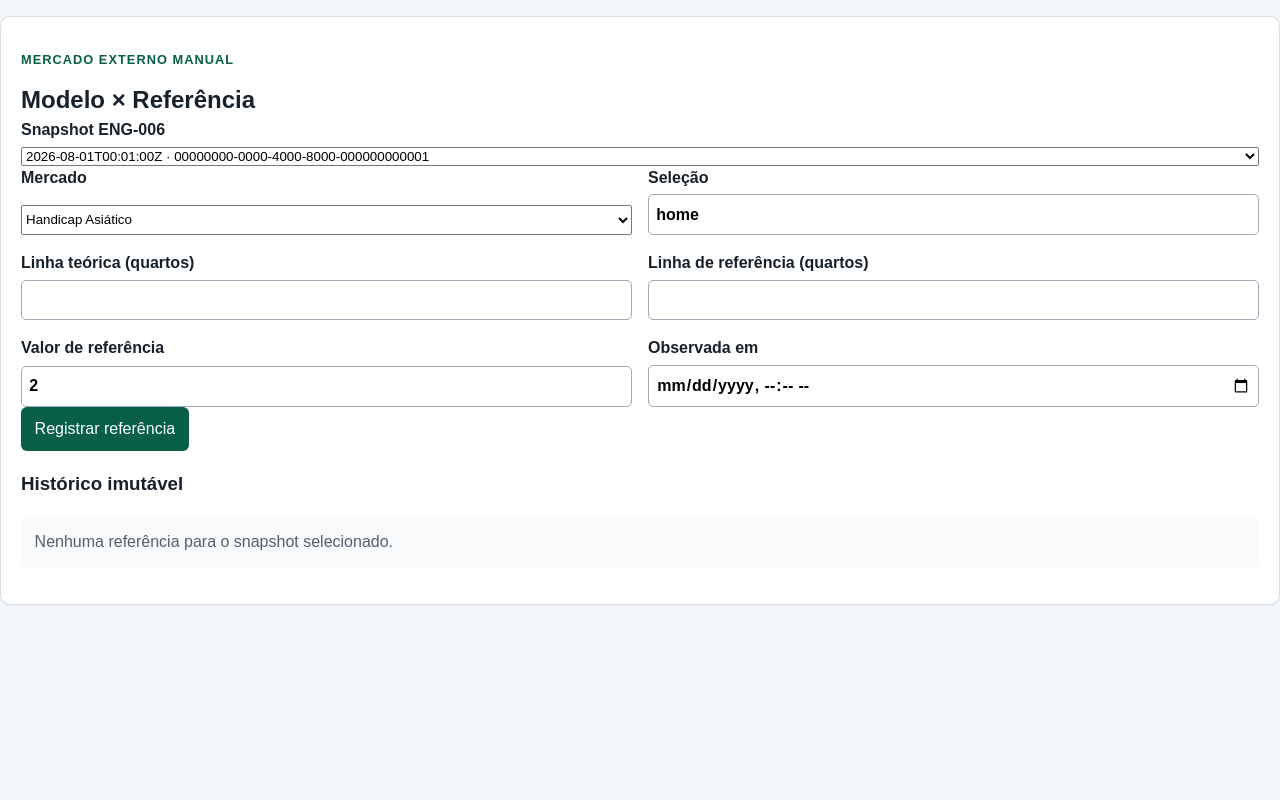
it: MarketReferencePanel › registers and displays a comparison supplied by the API
Check: the button "Registrar referência" is shown, box [21,407,189,451]
Type "-1" into the field labelled "Linha teórica (quartos)" at point(326, 300), box [21,280,632,320]
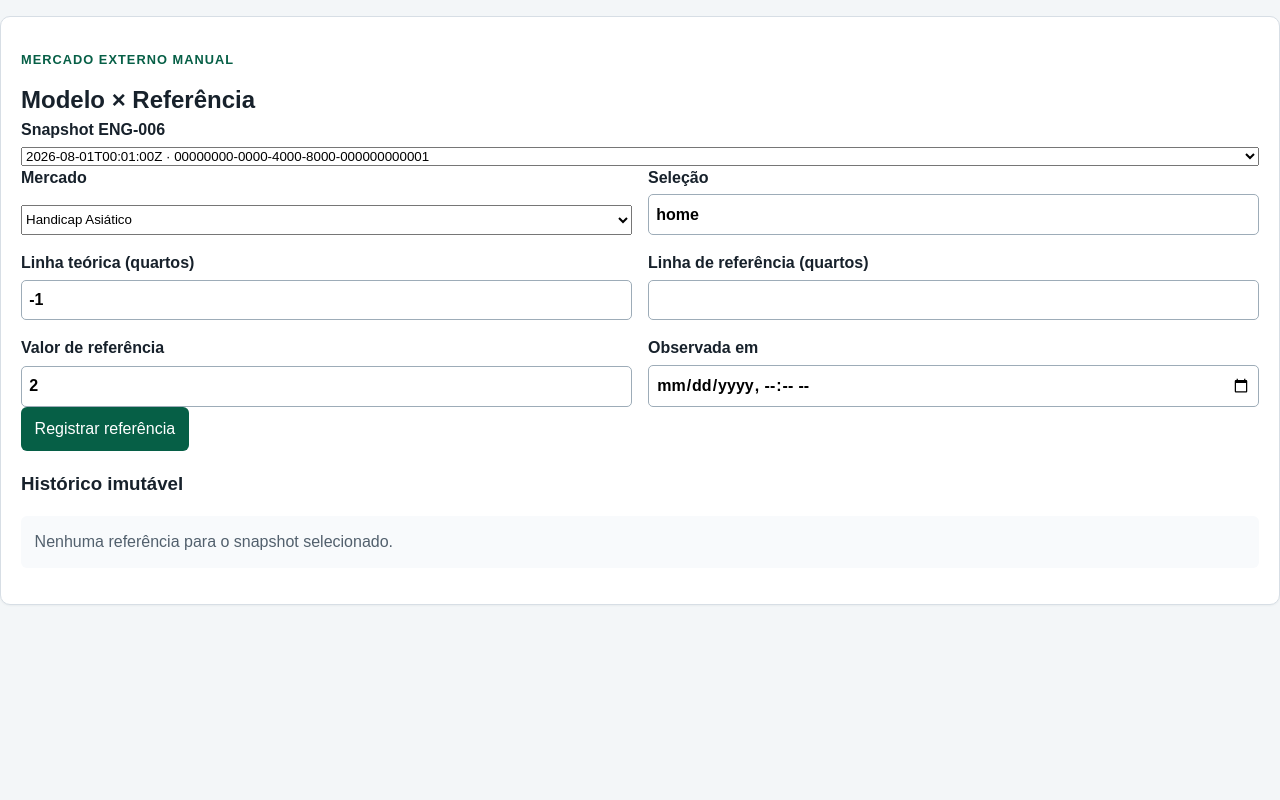
Type "0" into the field labelled "Linha de referência (quartos)" at point(954, 300), box [648,280,1259,320]
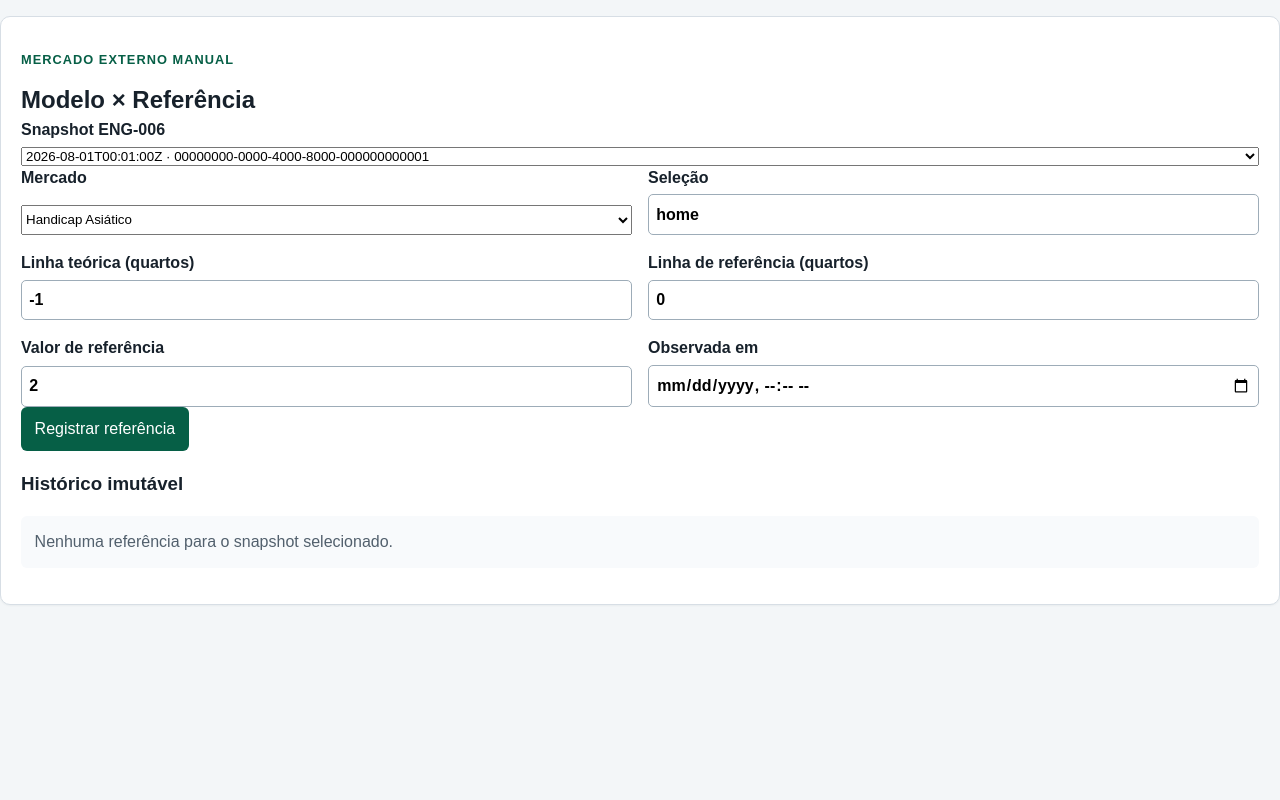
Type "2026-08-01T12:00" into the field labelled "Observada em" at point(954, 386), box [648,365,1259,407]
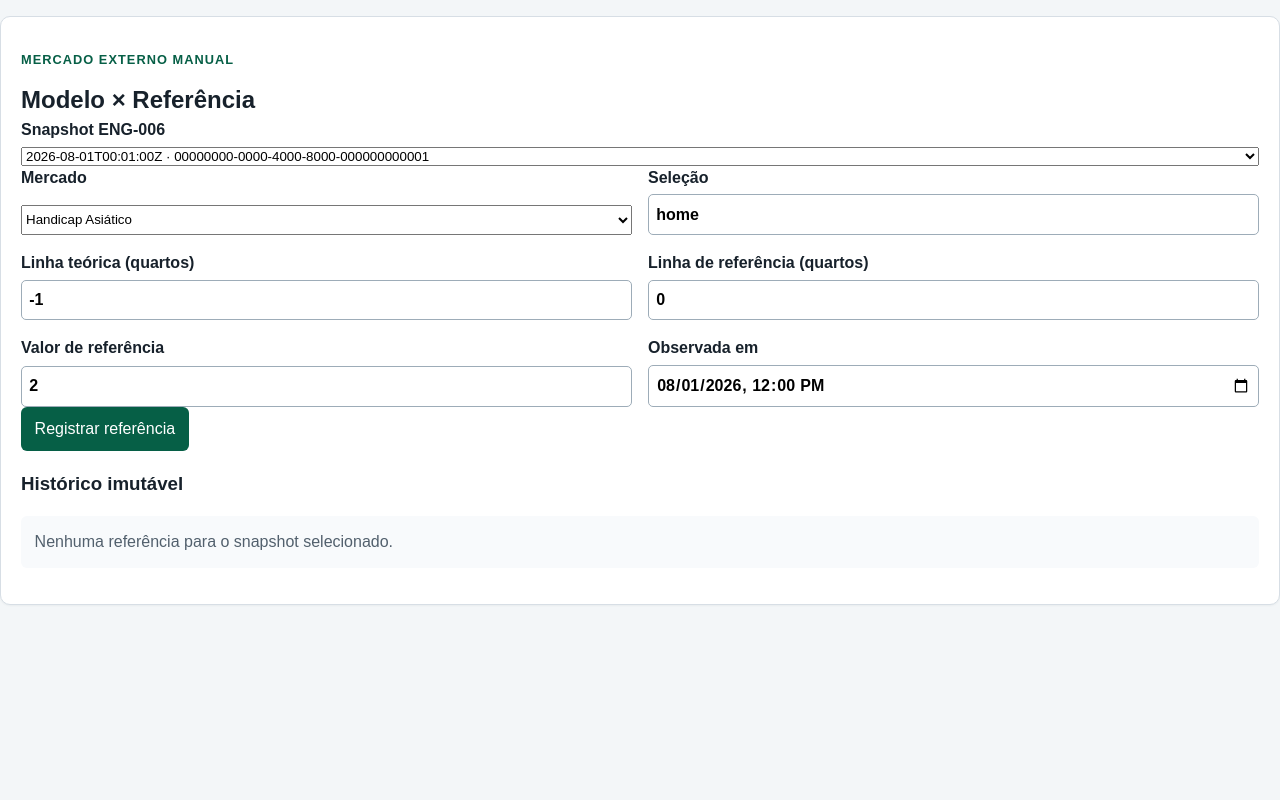
Click the button "Registrar referência" at point(105, 429), box [21,407,189,451]
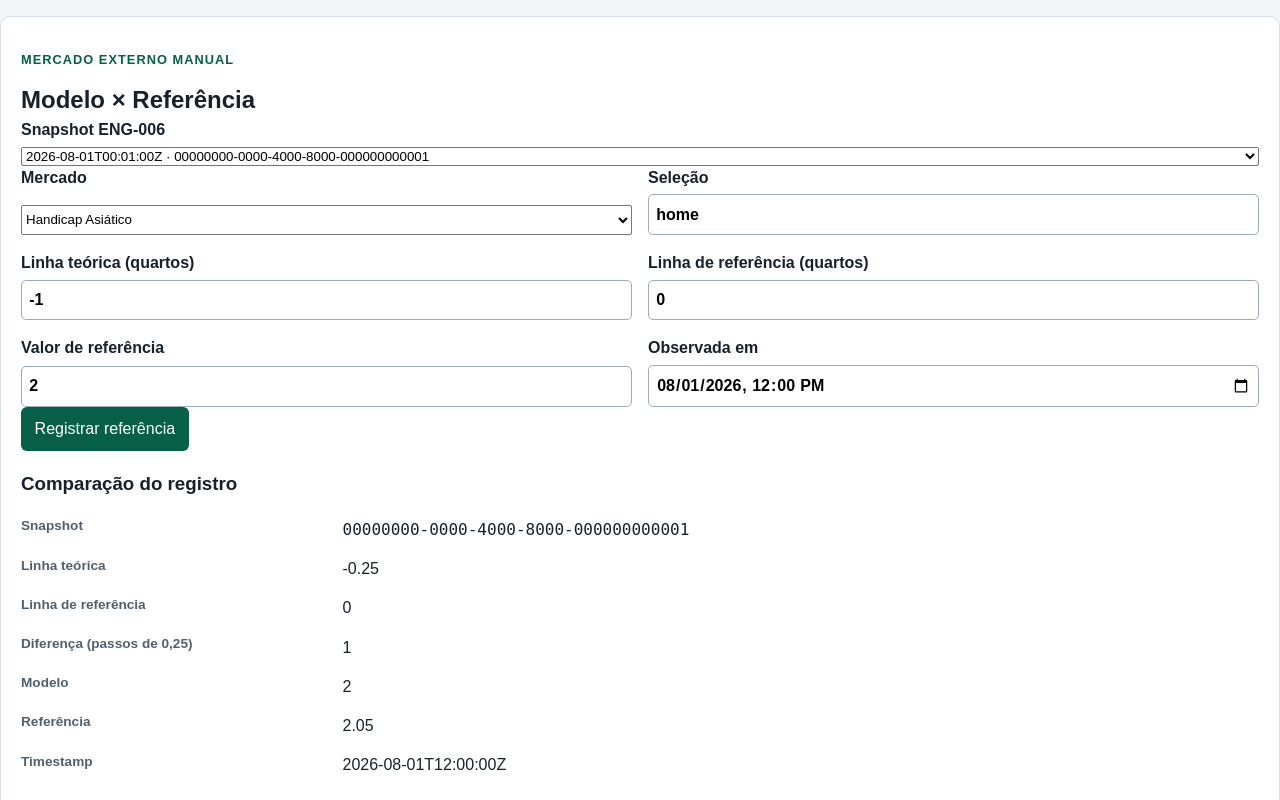
Check: the text "Diferença (passos de 0,25)" is shown, box [21,636,192,651]
Check: the text "1" is shown, box [342,639,351,656]
